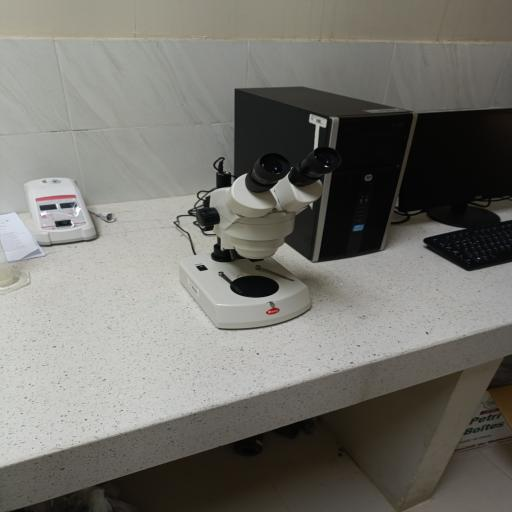Microscopio_estereo: (165, 136, 356, 336)
